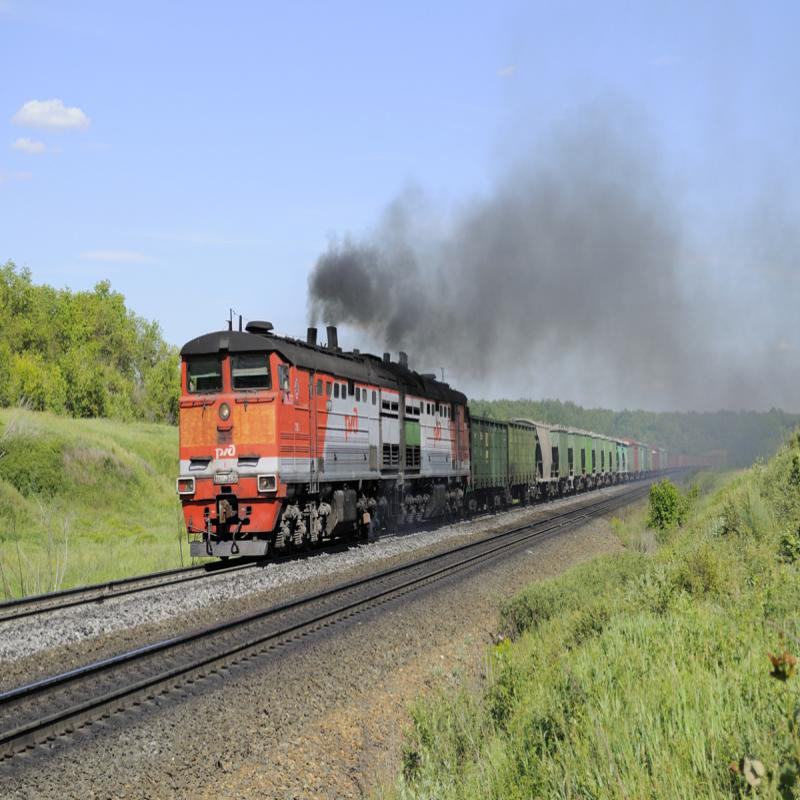train: (165, 320, 479, 586), (461, 361, 555, 526), (531, 402, 629, 503)
